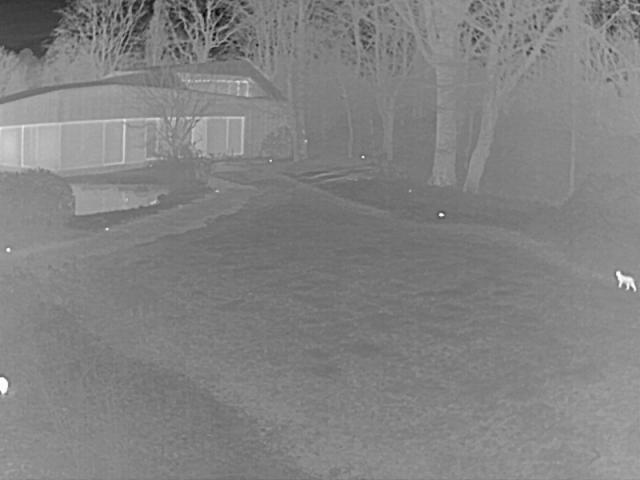dog: (616, 269, 638, 294)
